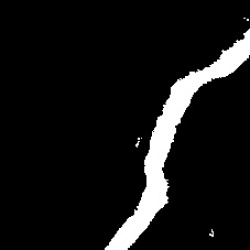crack: (106, 29, 249, 247), (134, 138, 140, 148)
pinhole: (210, 228, 213, 237)
